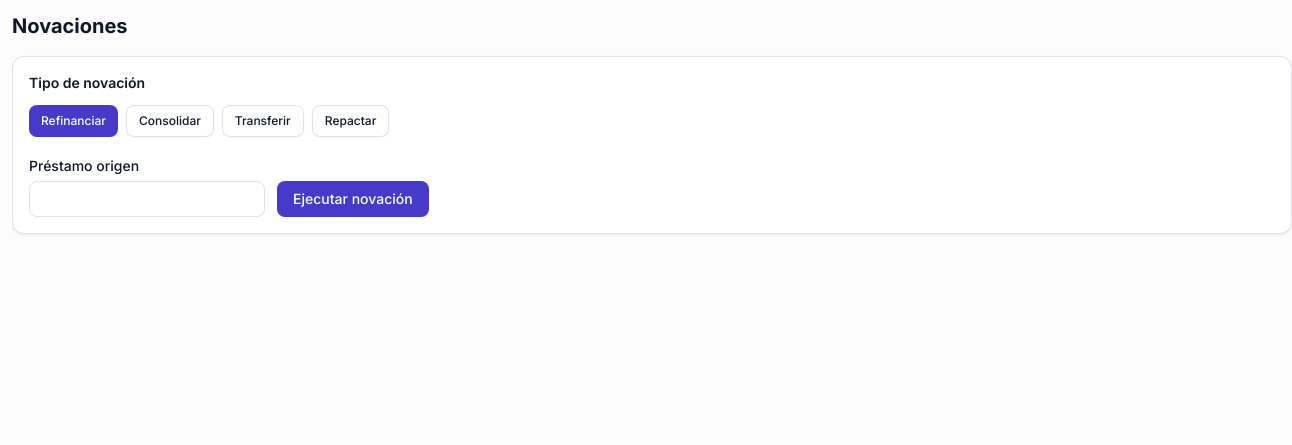
Scenario: Novaciones › permite elegir el tipo y ejecutar la novacion mostrando la cadena
Expected: the button "Refinanciar" is shown, x1=29 y1=105 x2=118 y2=137
Expected: the button "Consolidar" is shown, x1=126 y1=105 x2=214 y2=137
Click the button "Ejecutar novación" at point(353, 199), box x1=277 y1=181 x2=429 y2=217
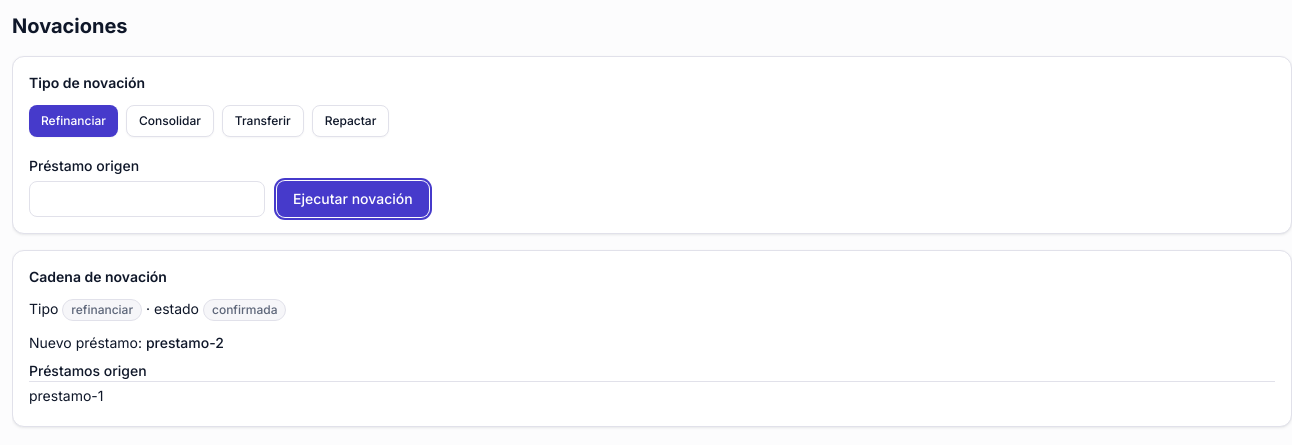
Expected: the text "prestamo-2" is shown, x1=146 y1=334 x2=224 y2=351
